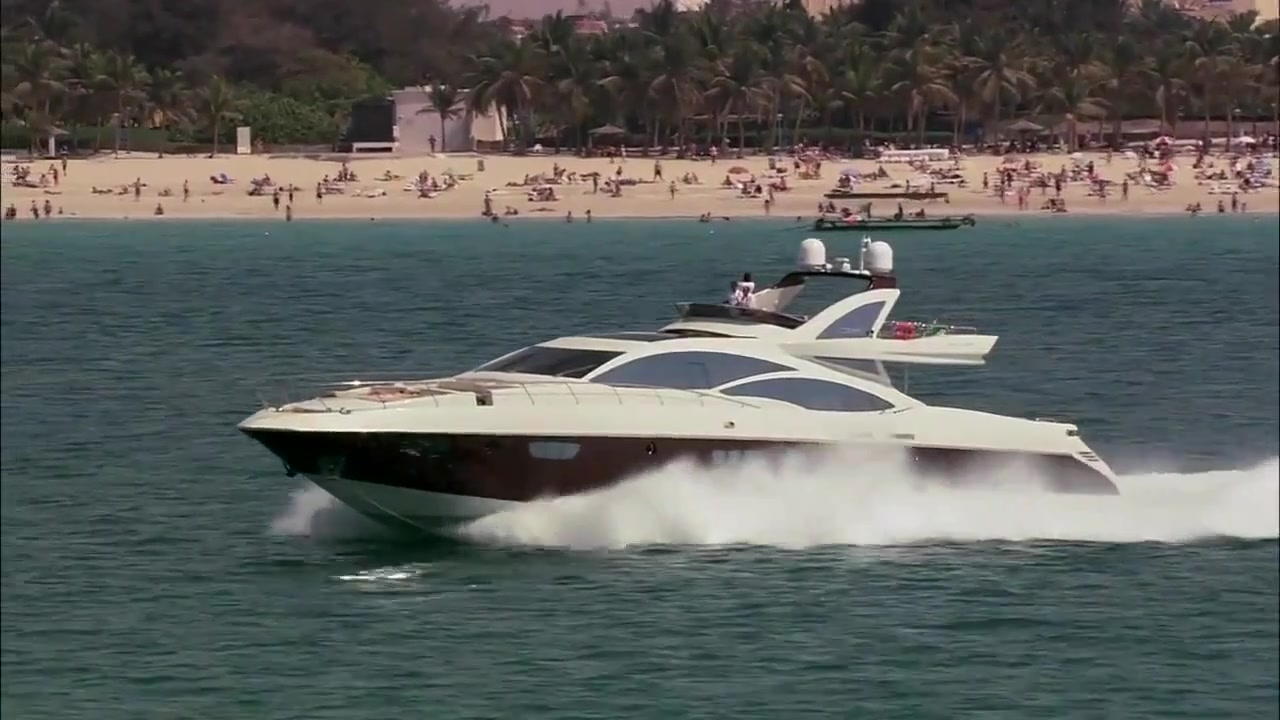boat: (234, 238, 1122, 553), (811, 215, 978, 238), (825, 187, 949, 204)
